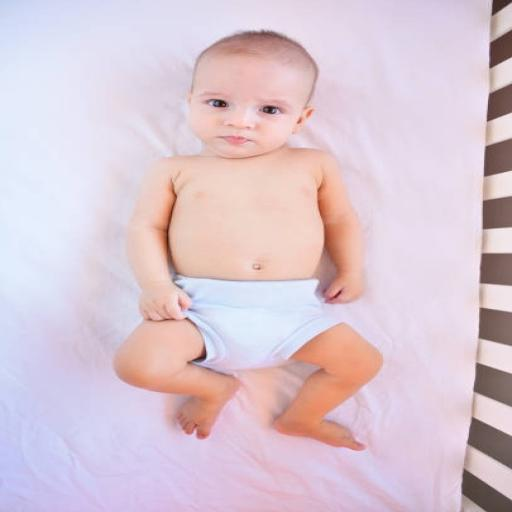baby: (114, 32, 381, 449)
crib: (0, 0, 491, 511)
